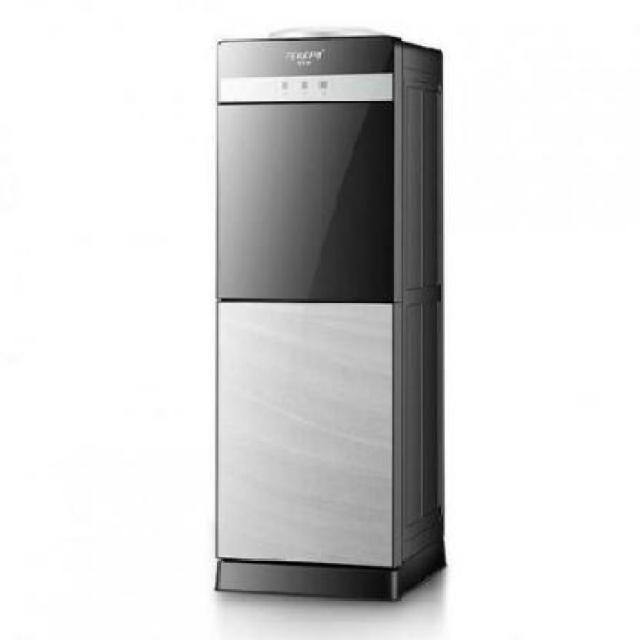cooler: (214, 23, 450, 606)
